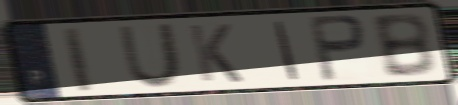B: (368, 10, 439, 80)
I: (60, 25, 96, 95), (271, 19, 302, 82)
K: (186, 22, 246, 85)
P: (305, 12, 369, 84)
U: (116, 21, 184, 90)
